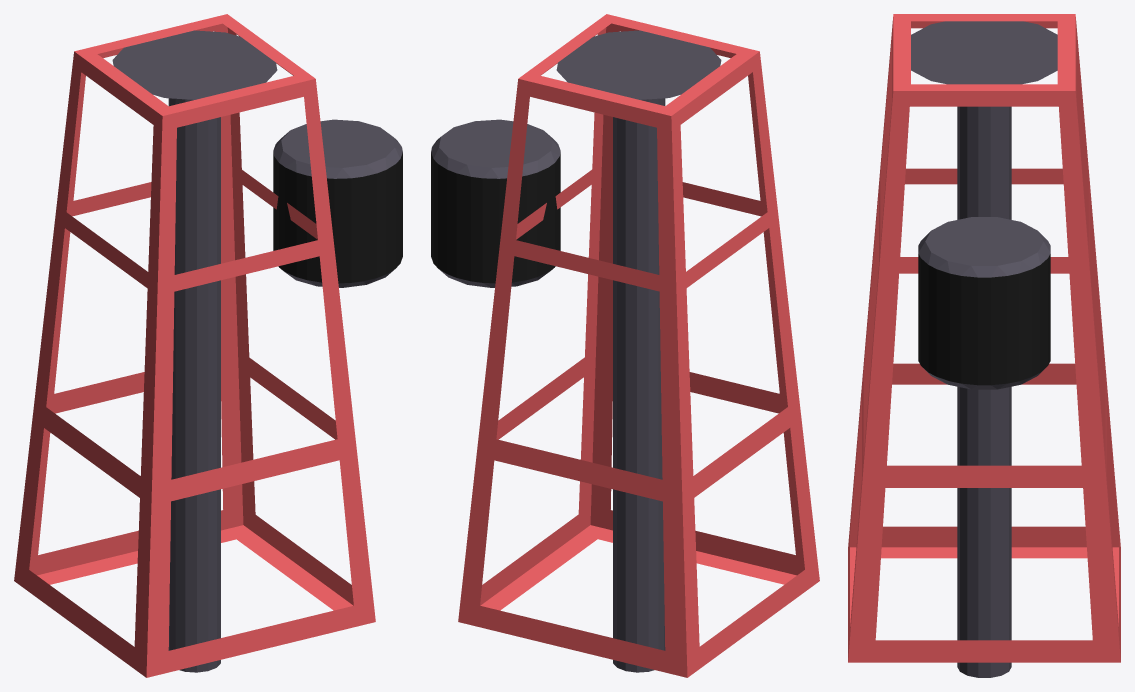
File: oil_rig.glb
The picture shows the model from 3 angles, left to right: view 1: azimuth 30°, elevation 25°; view 2: azimuth 150°, elevation 25°; view 3: azimuth 270°, elevation 25°; orthographic projection. The views are drawn at different scales.
Visible parts, largest first — view 1: Cube.003, Cylinder.002, Cylinder.003; view 2: Cube.003, Cylinder.002, Cylinder.003; view 3: Cube.003, Cylinder.002, Cylinder.003.
Part boxes in pixels (left/top/right/bottom): Cube.003: left=14, top=14, right=375, bottom=677; Cylinder.002: left=112, top=30, right=277, bottom=672; Cylinder.003: left=273, top=119, right=402, bottom=287; Cube.003: left=458, top=14, right=819, bottom=677; Cylinder.002: left=556, top=30, right=721, bottom=672; Cylinder.003: left=431, top=119, right=560, bottom=287; Cube.003: left=848, top=14, right=1120, bottom=662; Cylinder.002: left=911, top=21, right=1057, bottom=677; Cylinder.003: left=918, top=217, right=1050, bottom=389.
Size of the model in its own units: 2.74 by 4.97 by 2.
